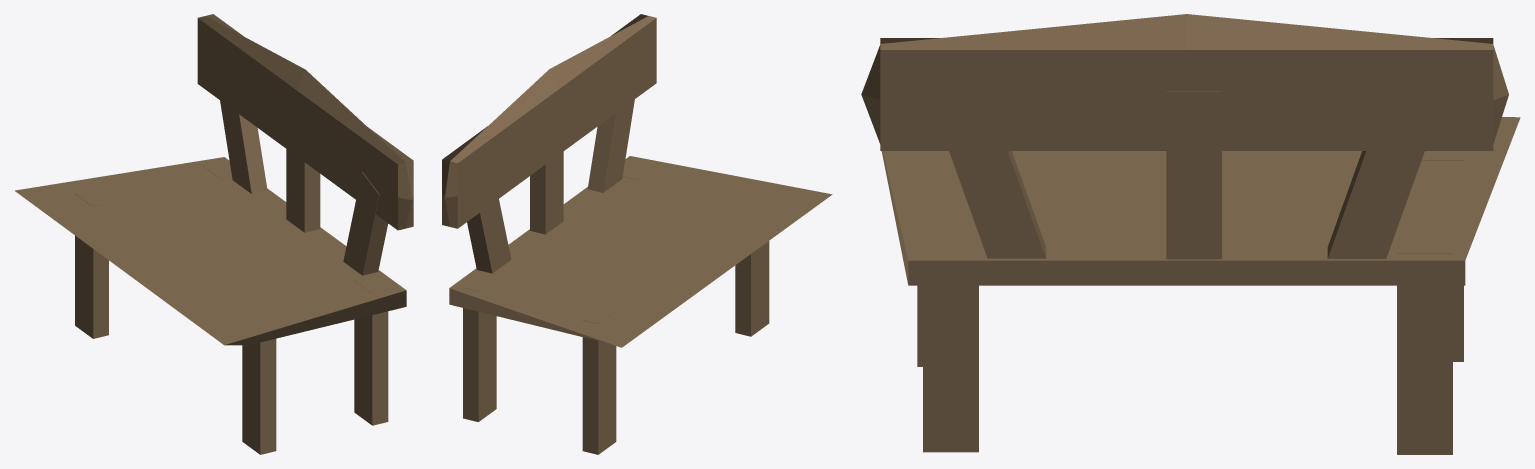
The model's file is bench.fbx.
The picture shows the model from 3 angles, left to right: view 1: azimuth 30°, elevation 25°; view 2: azimuth 150°, elevation 25°; view 3: azimuth 270°, elevation 25°; orthographic projection. The views are drawn at different scales.
Visible parts, largest first — view 1: Bench1; view 2: Bench1; view 3: Bench1.
Part boxes in pixels (<box>): Bench1: <box>15,14,413,454</box>; Bench1: <box>442,14,832,454</box>; Bench1: <box>861,14,1520,454</box>.
Size of the model in its own units: 1.23 by 1.75 by 2.37.
